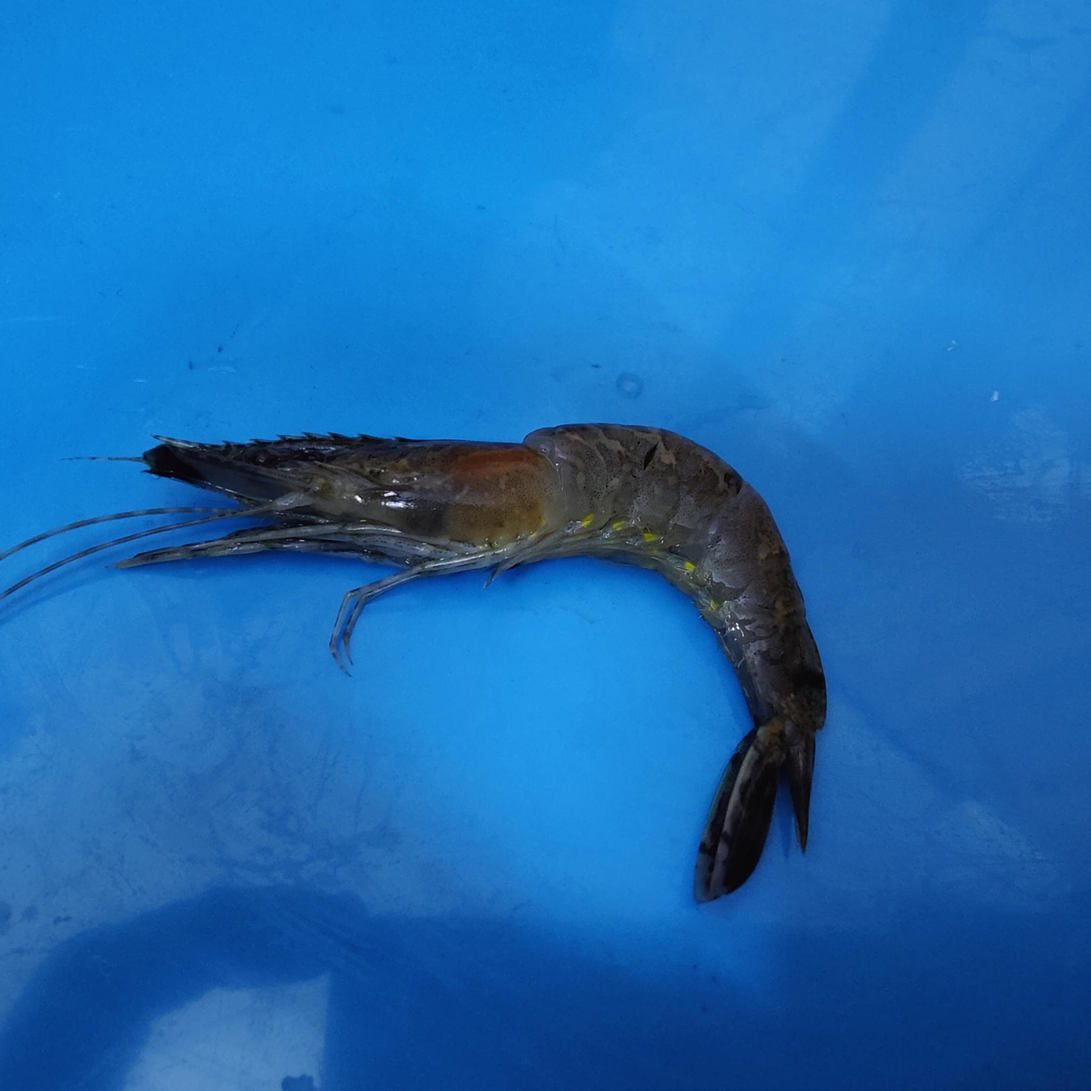whitespot: (260, 440, 545, 545)
